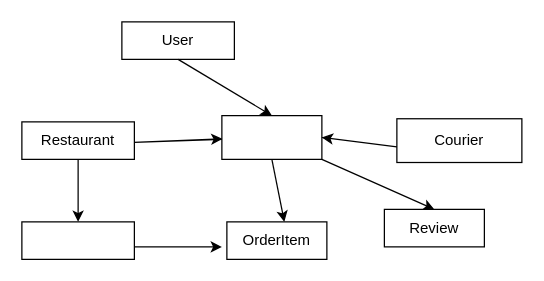
Some shapes in this 544 by 281 pixel diagram are drawn without their labels. Here are the shapes that lost their labels. From the top down, the box of each, then its label:
(221, 114, 322, 159): Order
(21, 221, 134, 259): Dish
